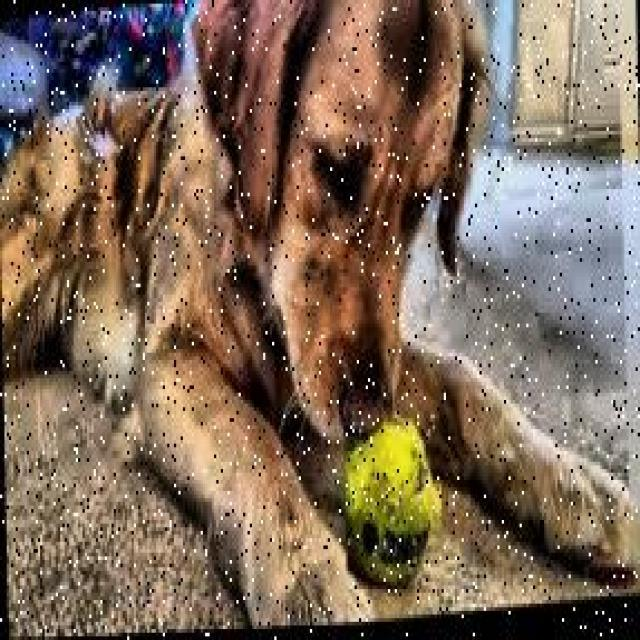tennis-ball: (343, 414, 444, 596)
